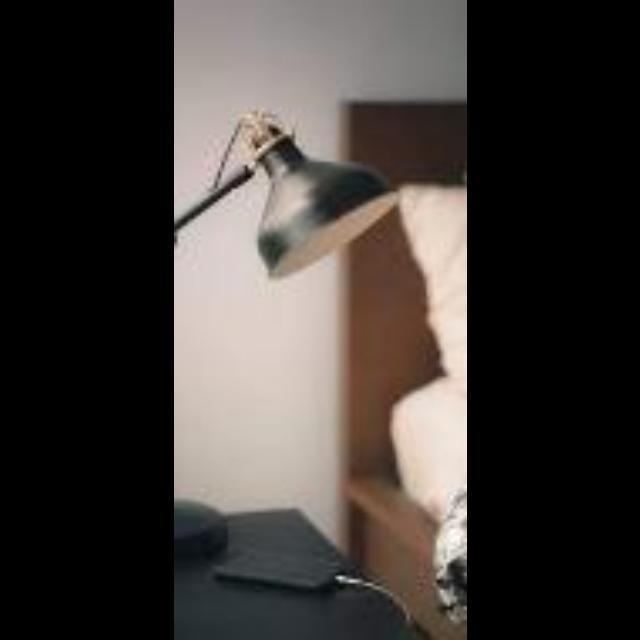phone: (193, 518, 399, 622)
